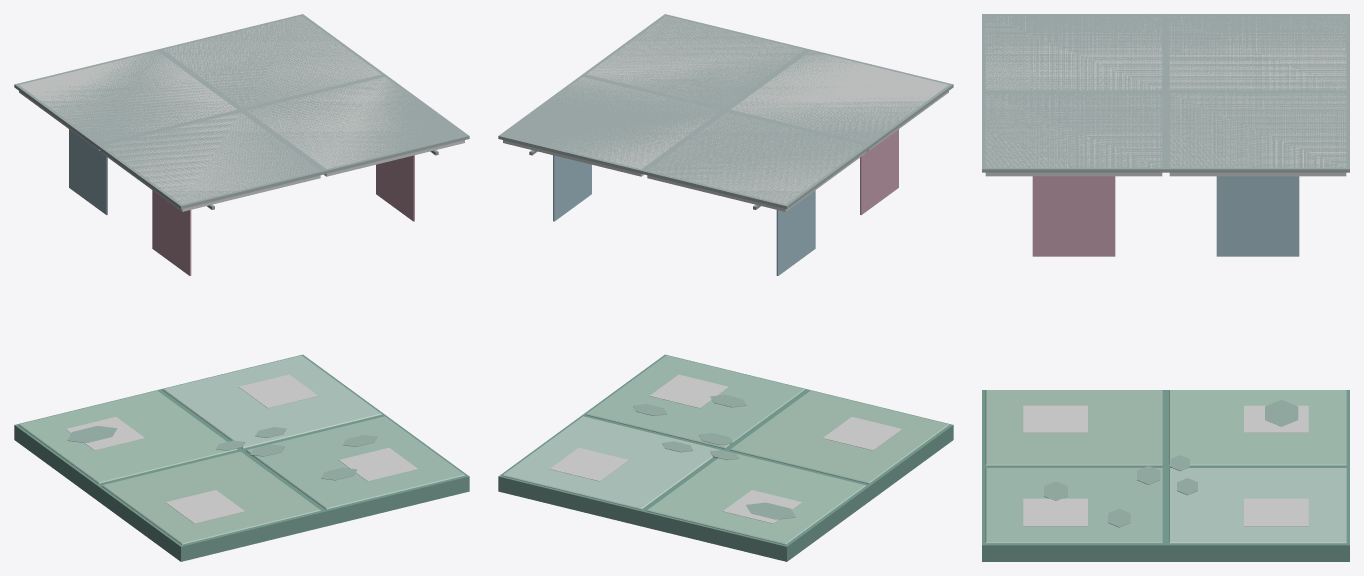
File: floor_a.fbx
3 views of the same model, side by side, from view 1: azimuth 30°, elevation 25°; view 2: azimuth 150°, elevation 25°; view 3: azimuth 270°, elevation 25° (orthographic). The views are drawn at different scales.
Parts seen in each view (by area): view 1: Ceiling, floor_a; view 2: Ceiling, floor_a; view 3: Ceiling, floor_a.
Boxes of the visible parts, left/top/right/bottom form: Ceiling: left=14, top=14, right=469, bottom=275; floor_a: left=14, top=354, right=469, bottom=561; Ceiling: left=498, top=14, right=953, bottom=275; floor_a: left=498, top=354, right=953, bottom=561; Ceiling: left=982, top=14, right=1349, bottom=256; floor_a: left=982, top=390, right=1349, bottom=561.
Size of the model in its own units: 4 by 4.71 by 4.
